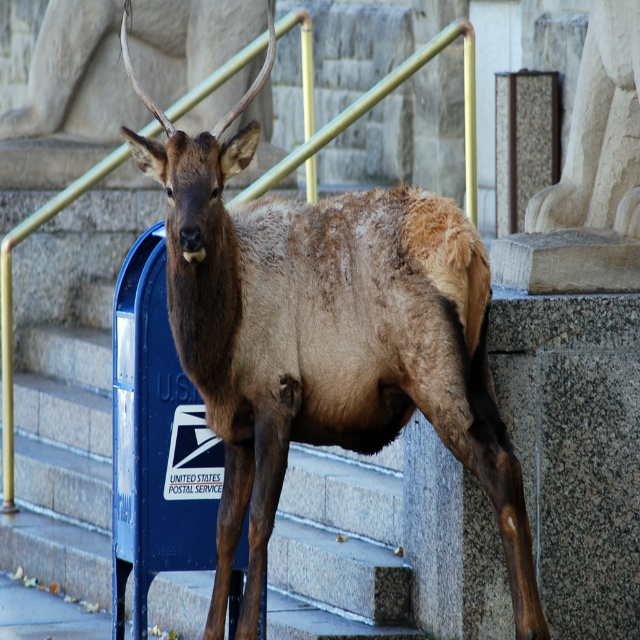Deer: (122, 0, 550, 639)
